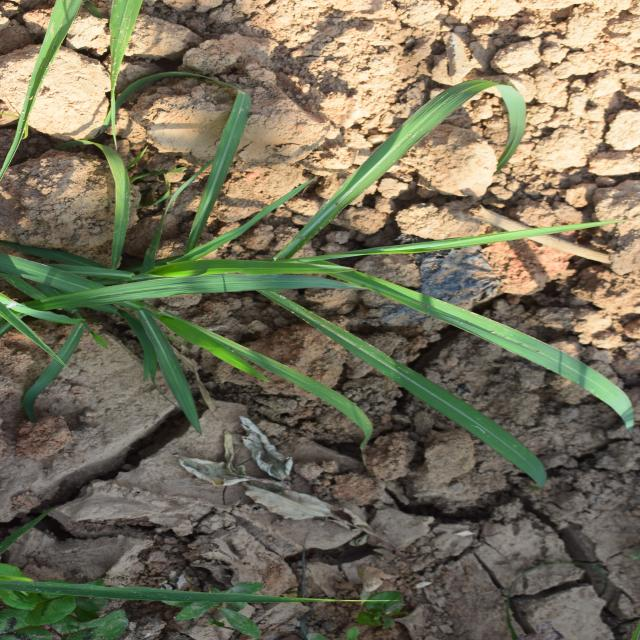green_foxtail: (78, 68, 390, 522)
